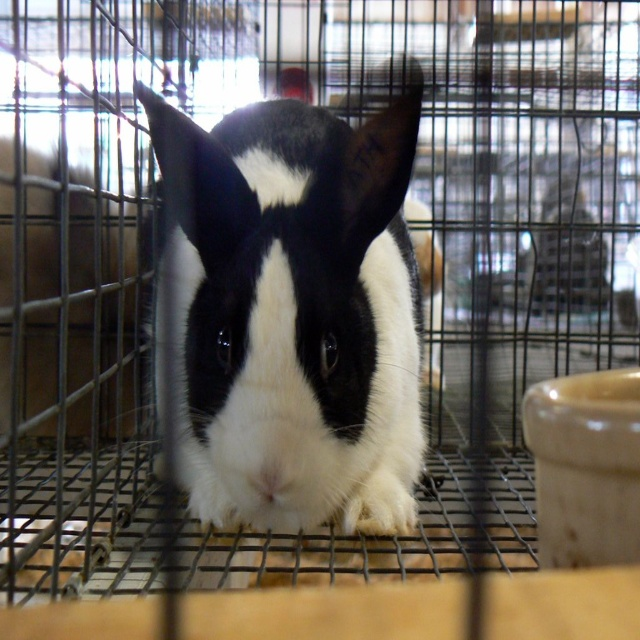Rabbit: (130, 81, 444, 539)
